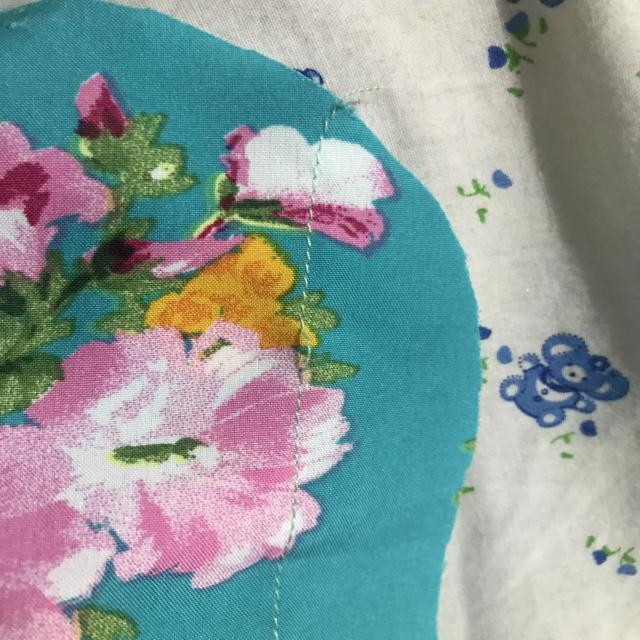good: (295, 227, 325, 283)
skip: (271, 303, 335, 405)
